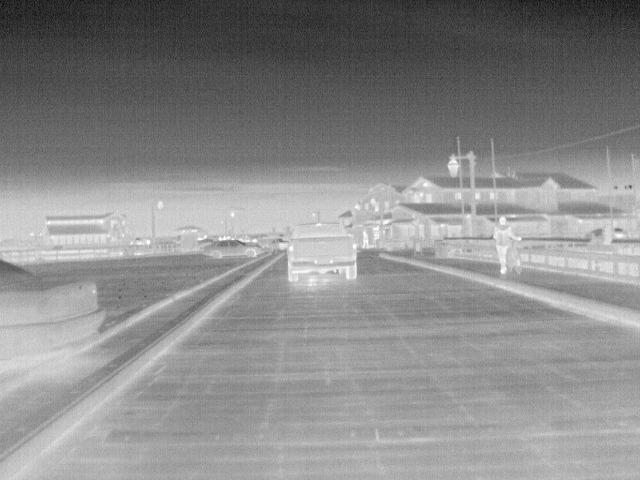car: (2, 258, 106, 364), (286, 221, 360, 283), (202, 238, 267, 261)
person: (494, 216, 523, 274), (359, 227, 371, 247)
